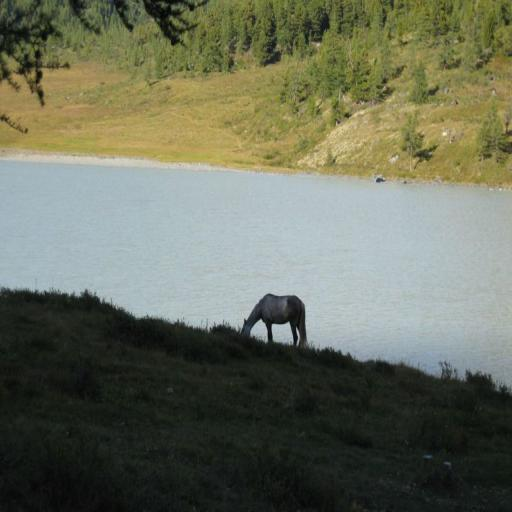horse: (240, 293, 307, 350)
